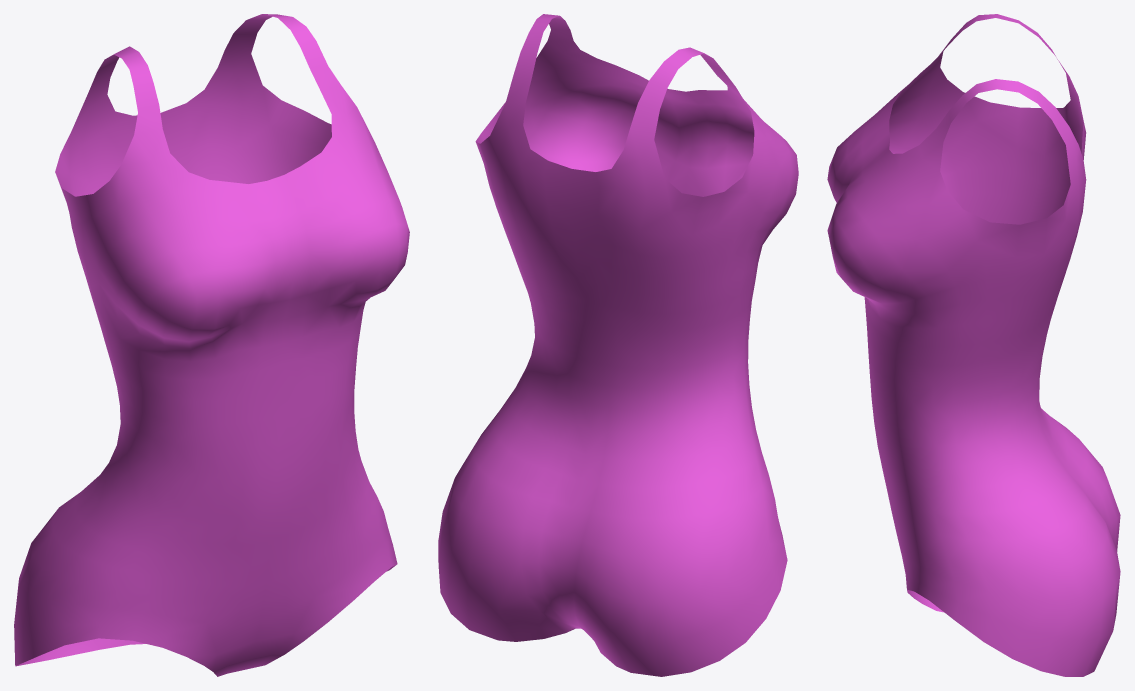
Rendered from Swimsuit_Unrigged.dae.
3 renders of one model, left to right at view 1: azimuth 30°, elevation 25°; view 2: azimuth 150°, elevation 25°; view 3: azimuth 270°, elevation 25°, orthographic. The views are drawn at different scales.
Visible parts, largest first — view 1: Swimsuit; view 2: Swimsuit; view 3: Swimsuit.
Boxes of the visible parts, box(x1,y1,x2,y2) form: Swimsuit: box(14, 14, 409, 676); Swimsuit: box(438, 14, 798, 676); Swimsuit: box(827, 14, 1120, 676).
Bounding box in the file's own units: 0.3742 × 0.3007 × 0.6555.
